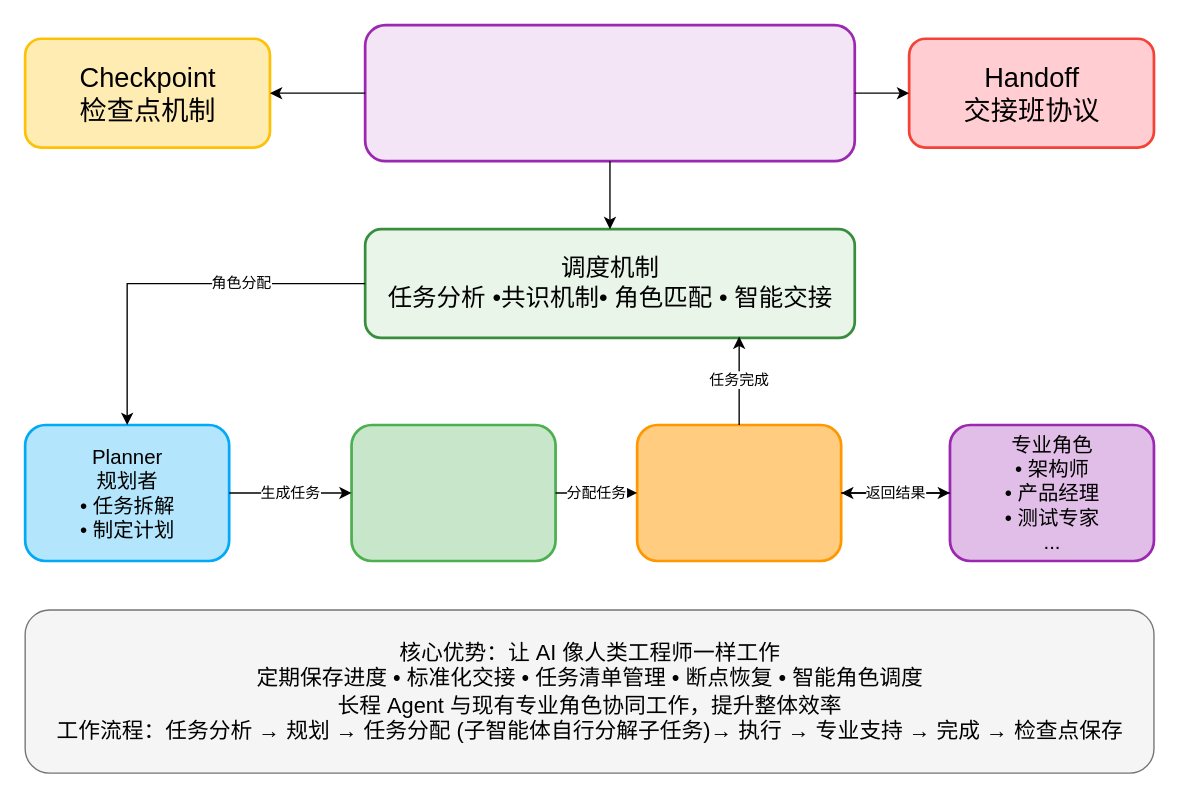
This 1178x797 diagram has some shape labels left out. Each missing label, with the centre of its shape:
"Executor 执行者 • 执行任务 • 测试验证" belongs at pixel 738 492.
"TaskList 任务清单" belongs at pixel 453 492.
"WorkflowEngineV2 增强版工作流引擎" belongs at pixel 609 92.
